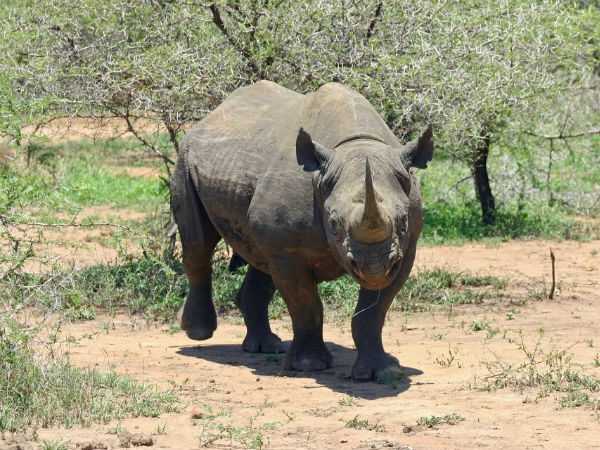rhino: (170, 74, 437, 383)
